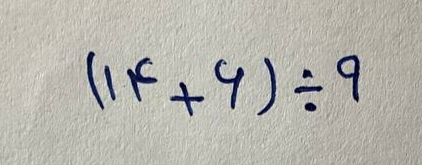character: (212, 59, 245, 110), (127, 57, 159, 102), (170, 82, 206, 118), (86, 52, 106, 112), (336, 55, 361, 101), (257, 58, 277, 115), (294, 69, 320, 108), (103, 65, 117, 101)
